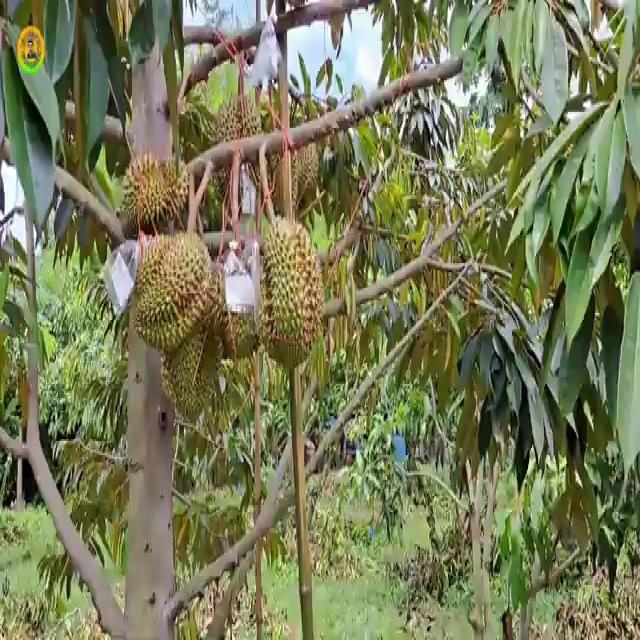durian: (252, 210, 328, 377), (158, 264, 230, 431), (132, 226, 218, 356), (213, 90, 267, 221), (119, 146, 194, 236), (294, 124, 323, 204)
